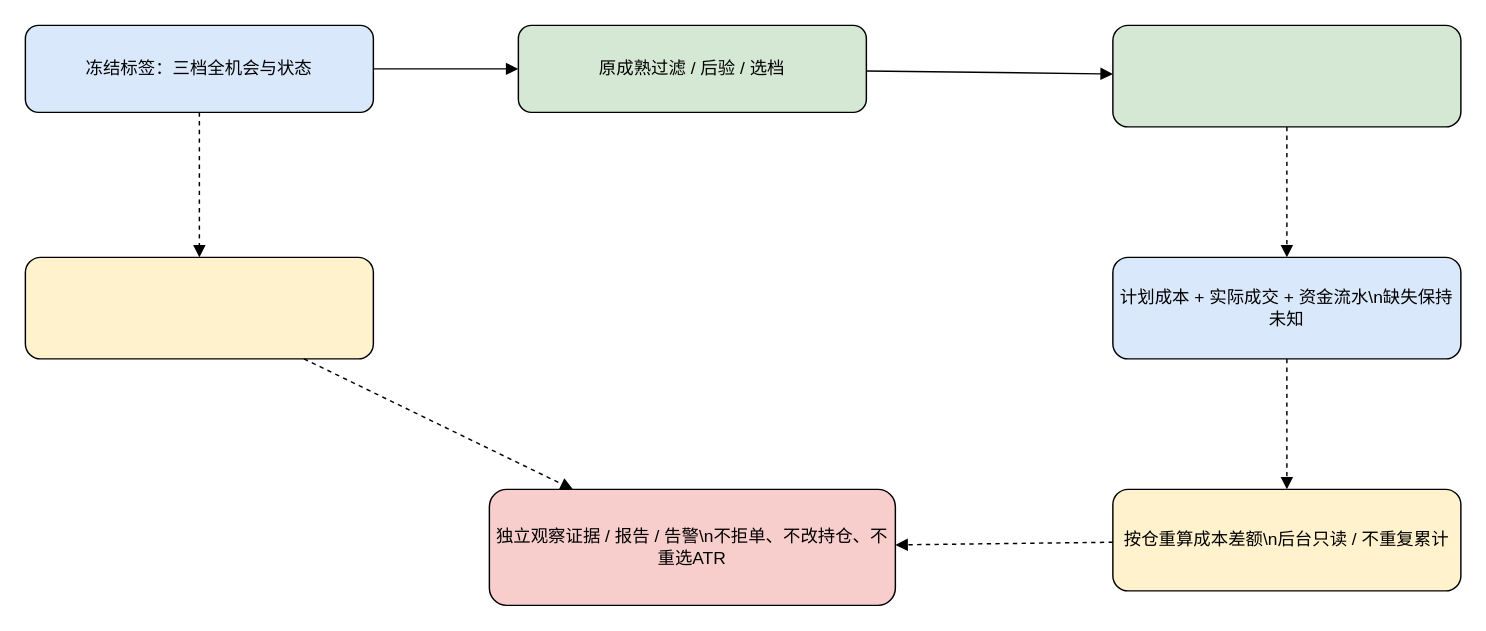
Some shapes in this 1486 by 631 pixel diagram are drawn without their labels. The centre of each missing label's shape, as x and y in pixels:
"完整率 / 排除原因 / 三档共同机会比较" goes at point 198,307.
"显式开启入口 + 原安全门\n订单与冻结ATR持仓" goes at point 1286,75.
